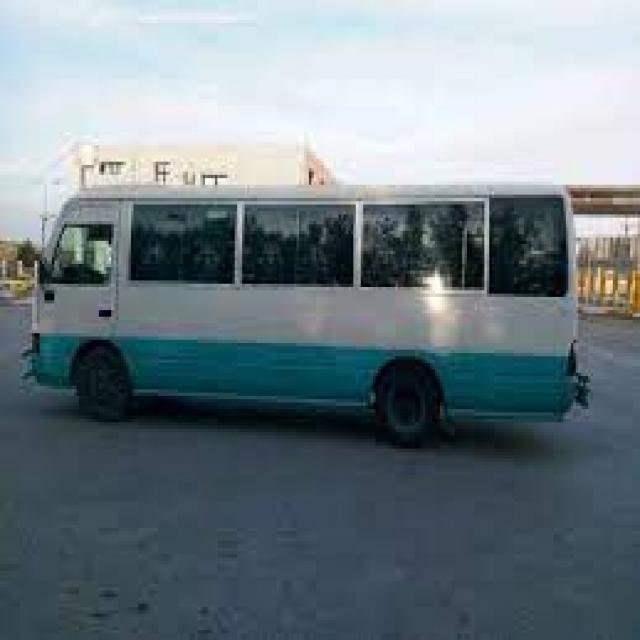bus: (22, 194, 570, 389)
